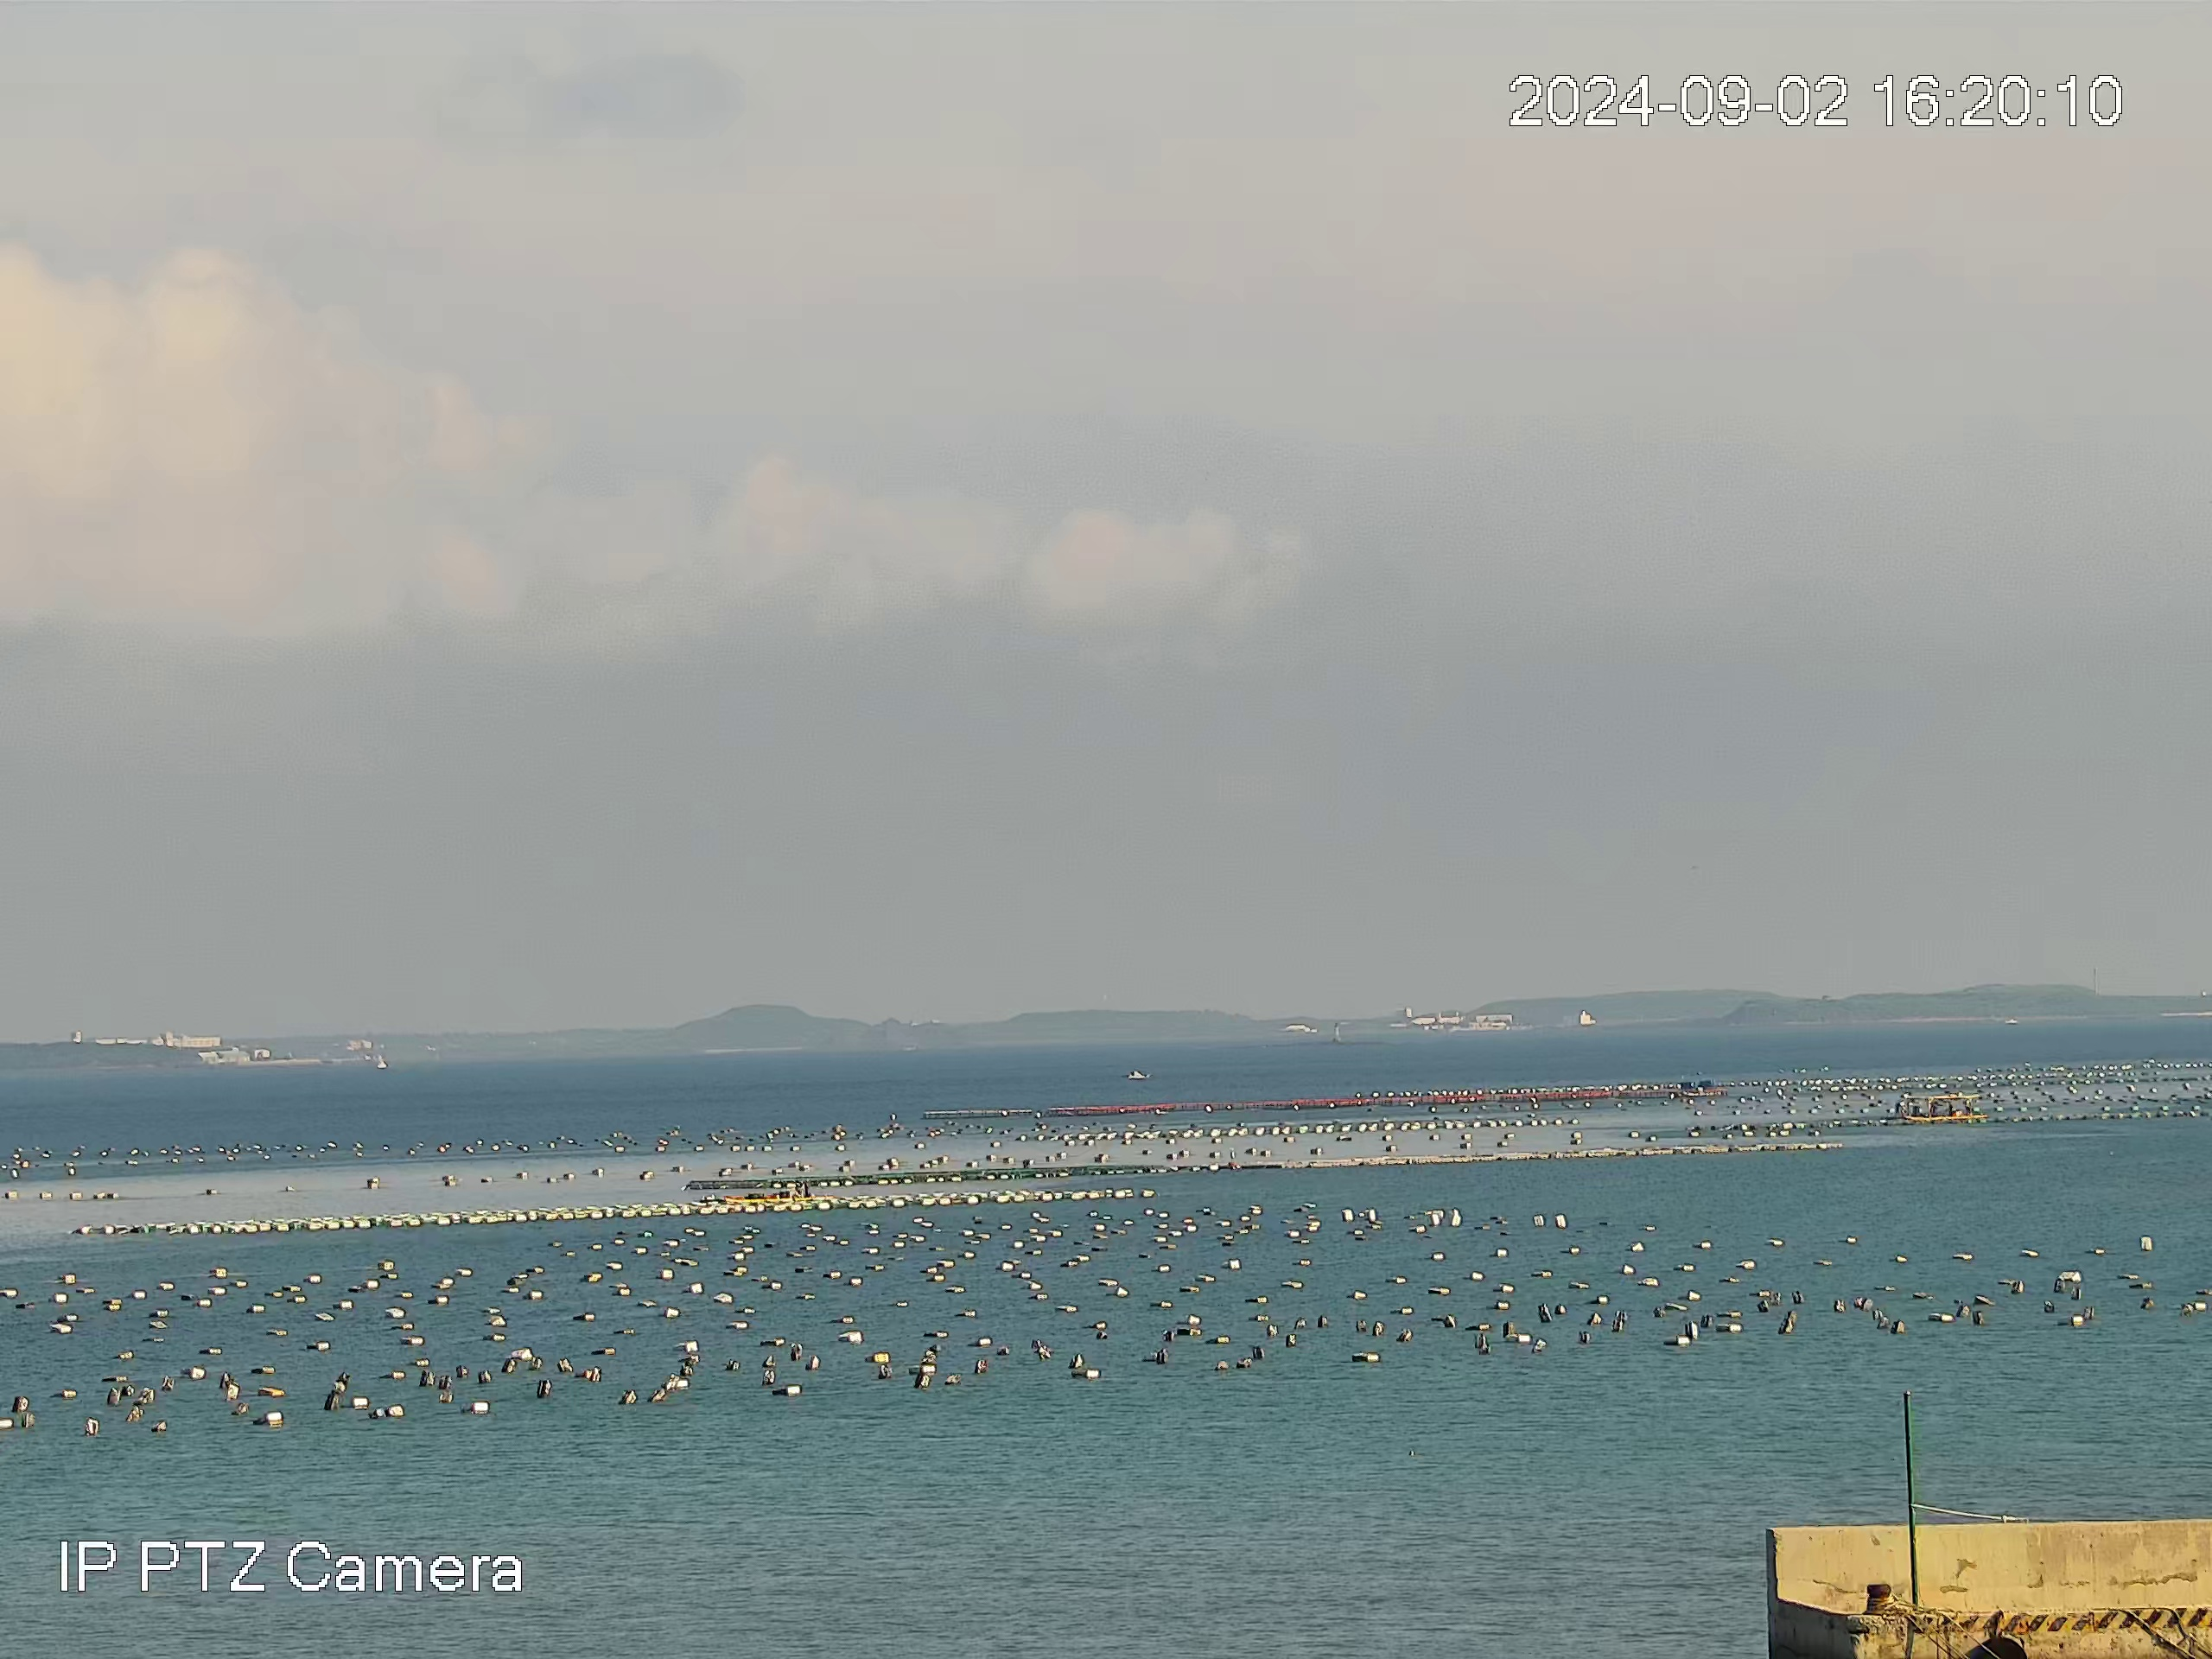boat: (1900, 1093, 1989, 1126), (723, 1180, 813, 1206), (1125, 1068, 1150, 1080)
